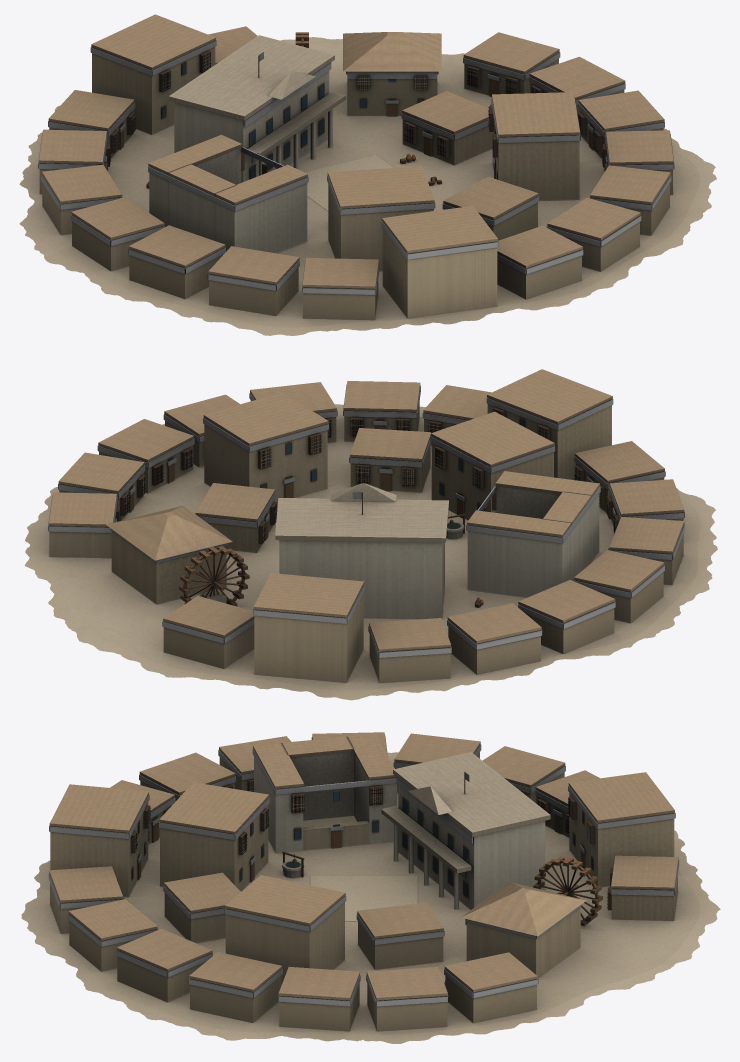
The model's file is gunpowder-town-big-a-nile.glb.
The picture shows the model from 3 angles, top to bottom: view 1: azimuth 30°, elevation 25°; view 2: azimuth 150°, elevation 25°; view 3: azimuth 270°, elevation 25°; orthographic projection.
Visible parts, largest first — view 1: LOD0; view 2: LOD0; view 3: LOD0.
Part boxes in pixels (left/top/right/bottom): LOD0: left=19, top=14, right=716, bottom=335; LOD0: left=24, top=369, right=717, bottom=700; LOD0: left=21, top=732, right=720, bottom=1043.
Size of what is drawn, in the model's own units: 7.92 by 1.32 by 7.99.
3 materials, 3 textured.
